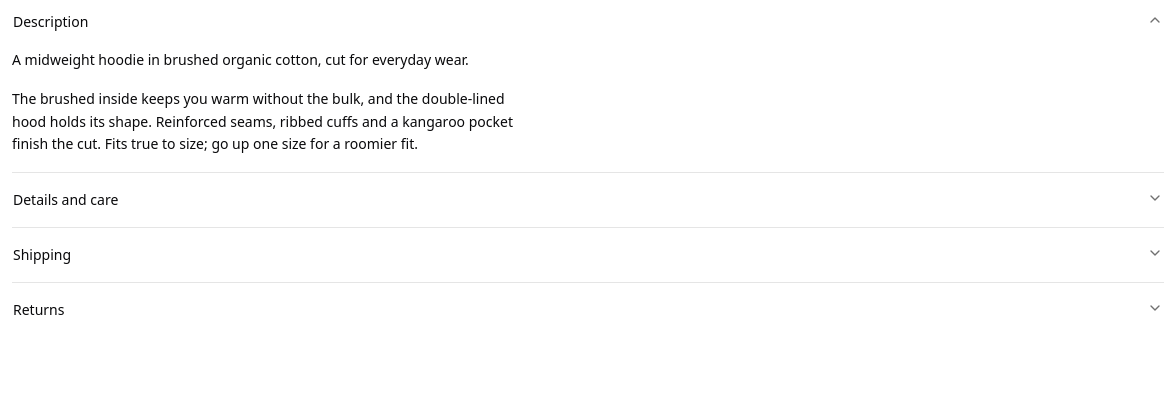
Test: ProductInfoAccordions › opening and closing › opens a section with a click and shows its panel, and a second click closes it
This screenshot has width=1176, height=410.
Click the button "Shipping": (42, 254) left=12, top=228, right=1164, bottom=282
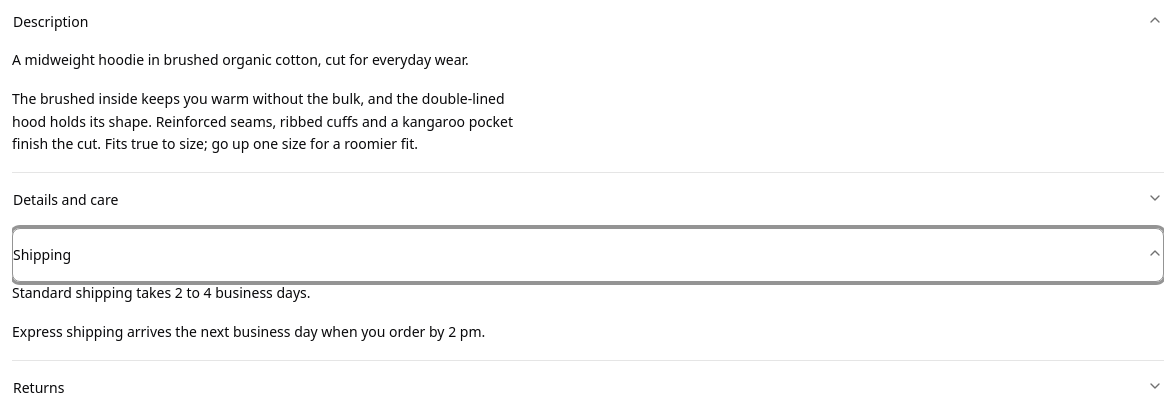
Check: the button "Shipping" is expanded
Click the button "Shipping": (42, 254) left=12, top=228, right=1164, bottom=282
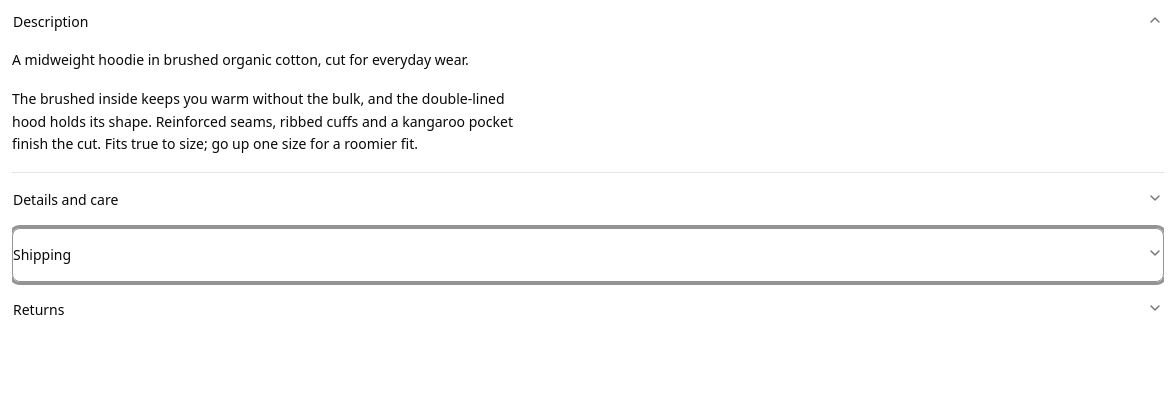
Check: the button "Shipping" is collapsed, box left=12, top=228, right=1164, bottom=282
